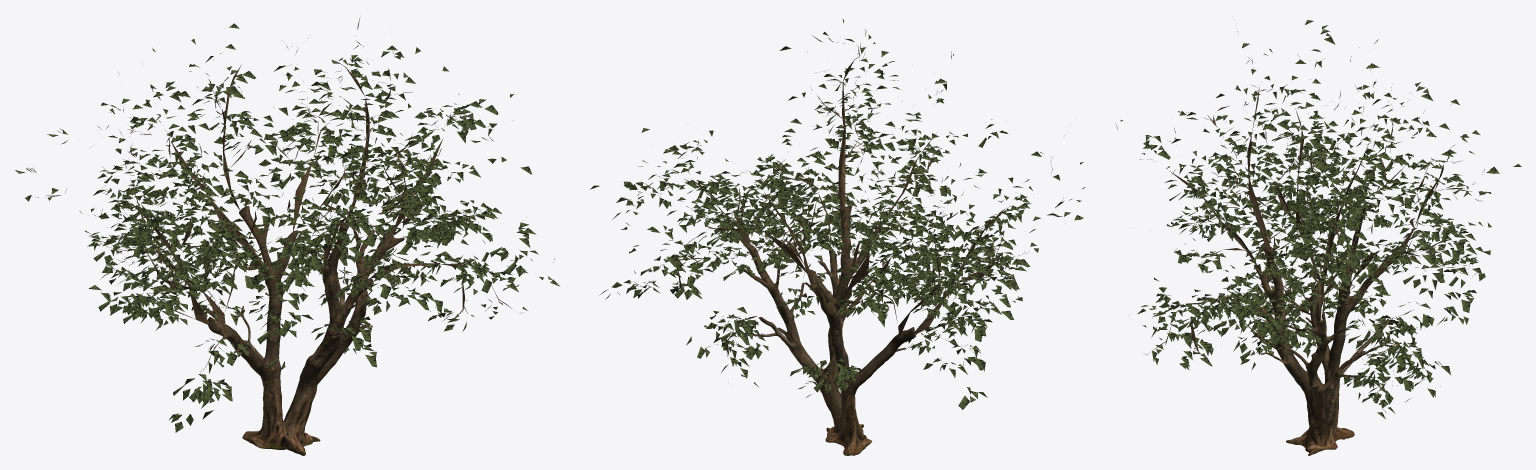
Rendered from jacaranda_tree.glb.
The picture shows the model from 3 angles, left to right: view 1: azimuth 30°, elevation 25°; view 2: azimuth 150°, elevation 25°; view 3: azimuth 270°, elevation 25°; orthographic projection. The views are drawn at different scales.
Visible parts, largest first — view 1: jacaranda_tree_LOD0; view 2: jacaranda_tree_LOD0; view 3: jacaranda_tree_LOD0.
Part boxes in pixels (x1,y1,x2,y2): jacaranda_tree_LOD0: [15, 17, 559, 455]; jacaranda_tree_LOD0: [590, 19, 1085, 455]; jacaranda_tree_LOD0: [1116, 20, 1521, 455].
Size of the model in its own units: 22.9 by 19.12 by 18.11.
Materials: 3 (3 with a texture image).
